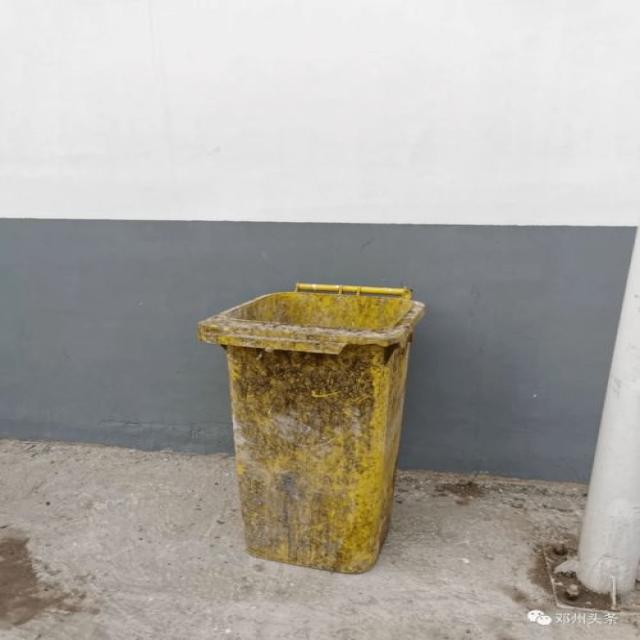garbage_bin: (196, 280, 427, 572)
